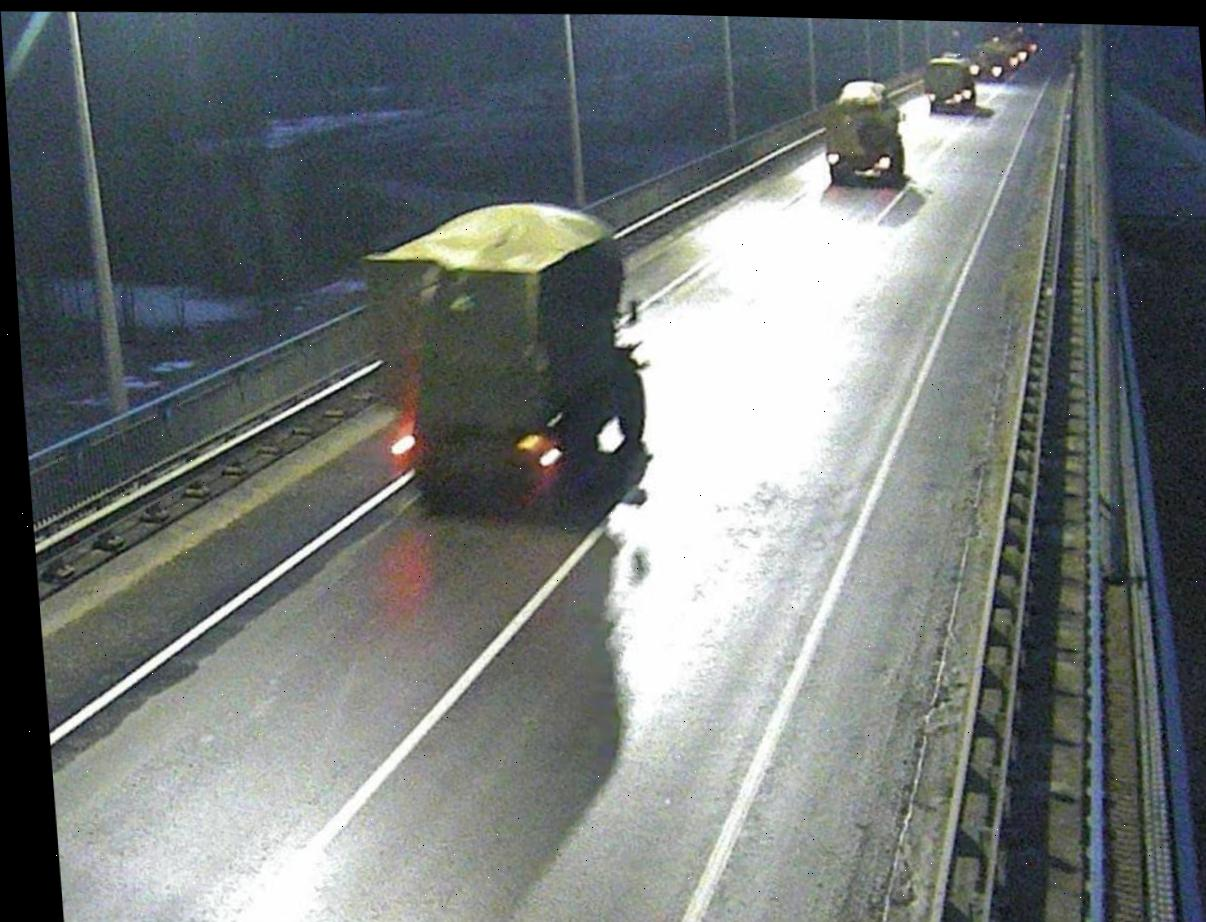truck: (352, 190, 676, 522), (806, 76, 920, 197), (915, 47, 980, 119)
